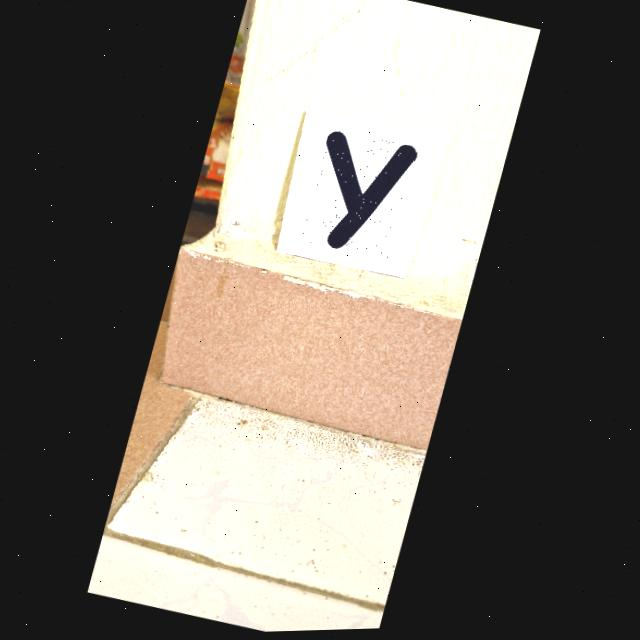Y: (326, 133, 417, 251)
